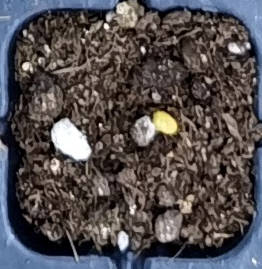chilli seed: (152, 110, 177, 134)
